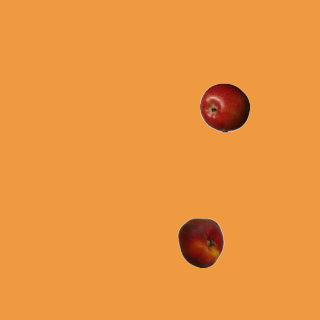Apple Braeburn: (199, 82, 249, 132)
Nectarine Flat: (175, 217, 225, 267)
